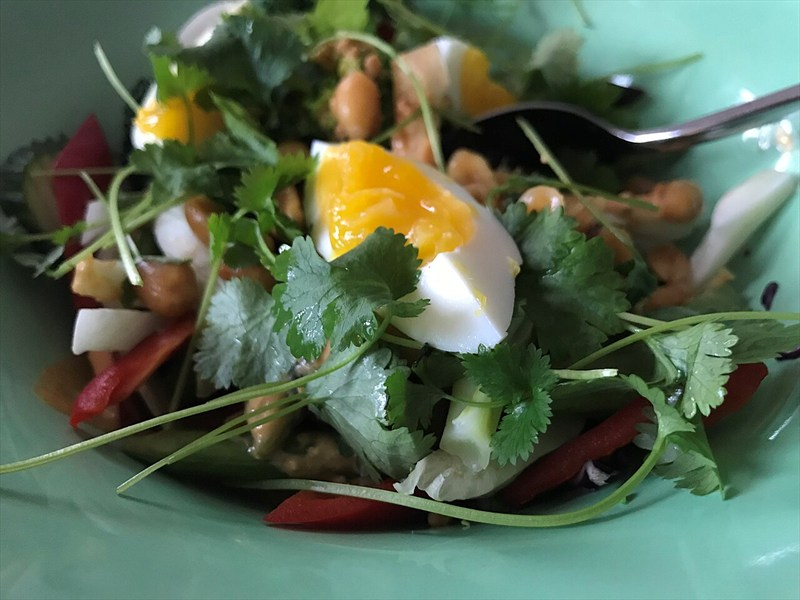Gado-Gado: (62, 54, 673, 516)
